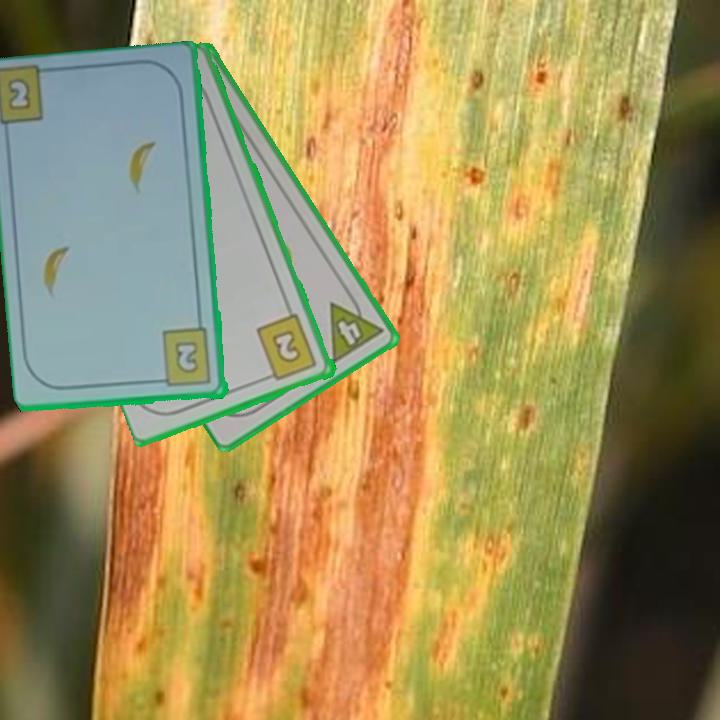2b: (253, 311, 320, 384), (153, 325, 215, 390), (3, 74, 34, 114)
4p: (325, 288, 386, 366)
